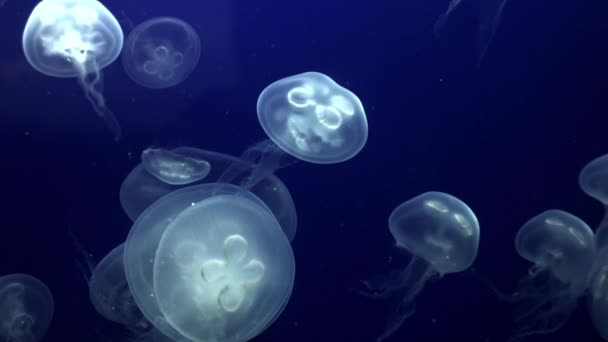jellyfish: (124, 173, 296, 336), (246, 66, 391, 191), (21, 1, 134, 149), (382, 182, 477, 328)
